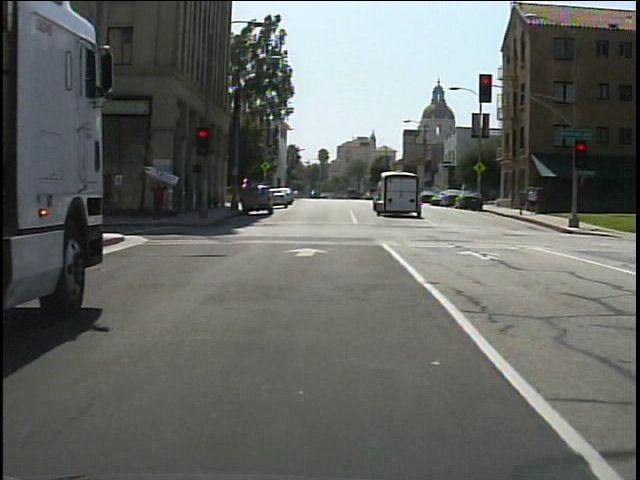person: (150, 174, 173, 223), (526, 187, 542, 216), (516, 185, 529, 219)
